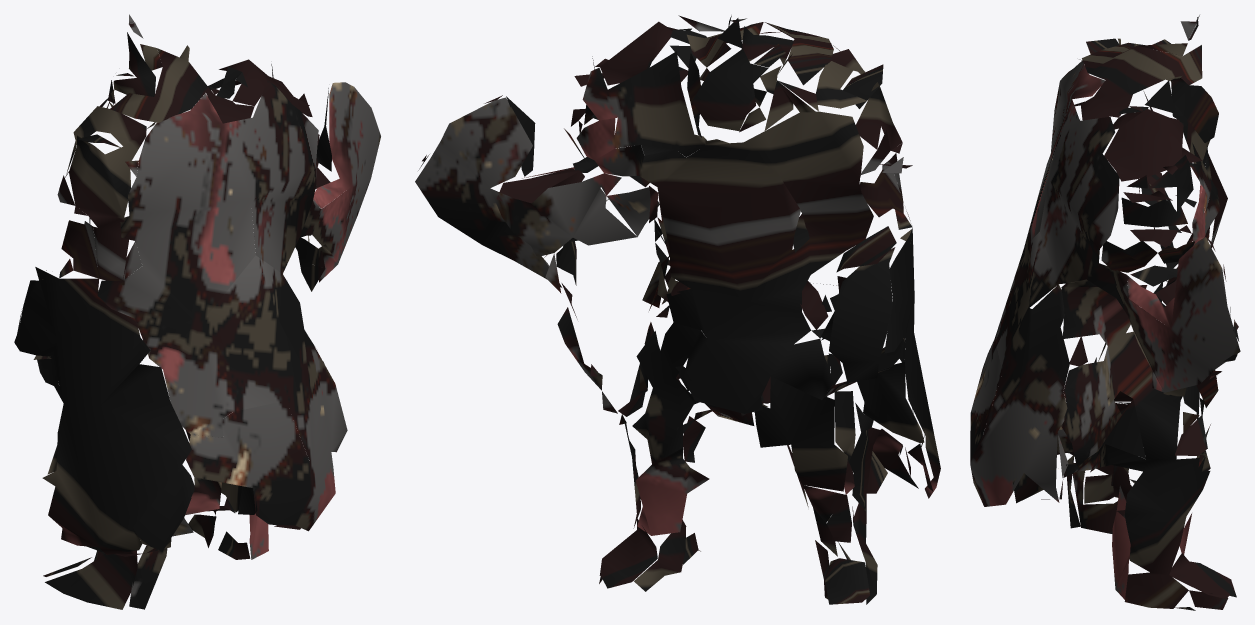
The picture shows the model from 3 angles, left to right: view 1: azimuth 30°, elevation 25°; view 2: azimuth 150°, elevation 25°; view 3: azimuth 270°, elevation 25°; orthographic projection. The views are drawn at different scales.
Parts seen in each view (by area): view 1: body.002; view 2: body.002; view 3: body.002.
Boxes of the visible parts, x1=… form: body.002: x1=14, y1=14, x2=380, y2=609; body.002: x1=415, y1=15, x2=940, y2=604; body.002: x1=970, y1=15, x2=1240, y2=610.
Size of the model in its own units: 1.57 by 1.99 by 0.9024.
Materials: 1 (1 with a texture image).
